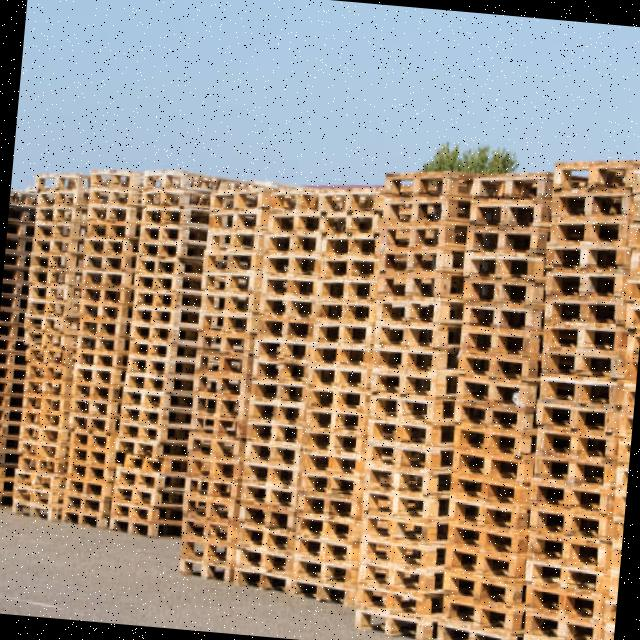Wooden-Pallets: (451, 368, 536, 409), (444, 518, 530, 558), (438, 569, 528, 605), (349, 603, 435, 640), (383, 164, 459, 204), (358, 488, 438, 522), (365, 440, 444, 474), (460, 252, 540, 284), (356, 564, 440, 594), (453, 448, 530, 480), (468, 171, 545, 201), (238, 452, 300, 488), (368, 392, 441, 420), (318, 250, 378, 282), (313, 300, 373, 330), (291, 512, 352, 541), (293, 554, 351, 584), (232, 564, 290, 593), (175, 554, 230, 584), (372, 346, 440, 370), (306, 382, 360, 412), (196, 270, 257, 295), (192, 332, 250, 358), (302, 409, 362, 434), (206, 208, 266, 233), (114, 398, 164, 427), (108, 498, 156, 526), (138, 206, 195, 229), (256, 318, 310, 342), (84, 184, 136, 204)
